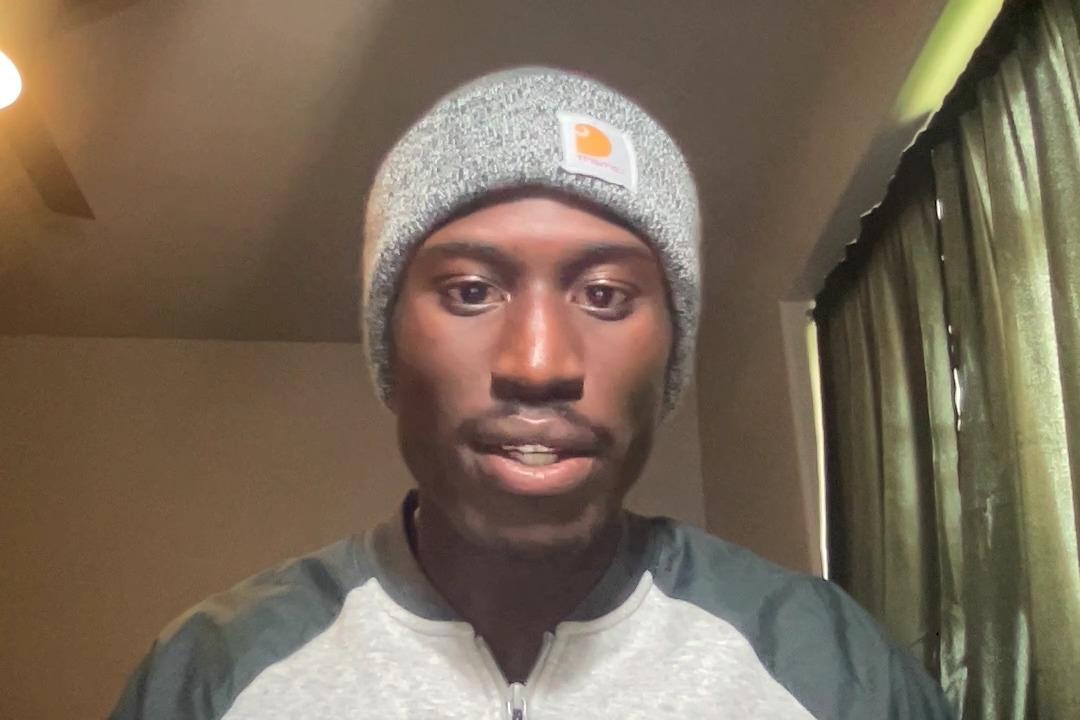face: (357, 56, 712, 556)
